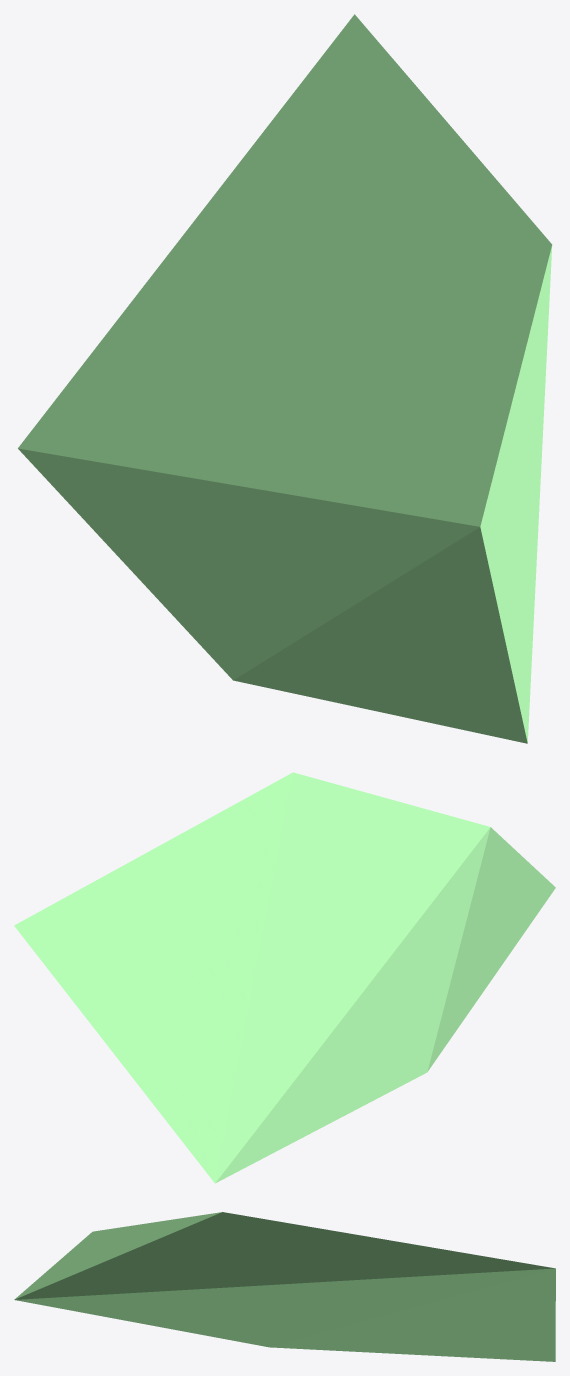
The model's file is franka_link7resp_coll_11.dae.
The picture shows the model from 3 angles, top to bottom: view 1: azimuth 30°, elevation 25°; view 2: azimuth 150°, elevation 25°; view 3: azimuth 270°, elevation 25°; orthographic projection. The views are drawn at different scales.
Visible parts, largest first — view 1: node; view 2: node; view 3: node.
Part boxes in pixels (x1=…): node: x1=18, y1=14, x2=552, y2=743; node: x1=14, y1=772, x2=555, y2=1183; node: x1=14, y1=1212, x2=555, y2=1361.
Size of the model in its own units: 0.0145 by 0.0137 by 0.0334.
